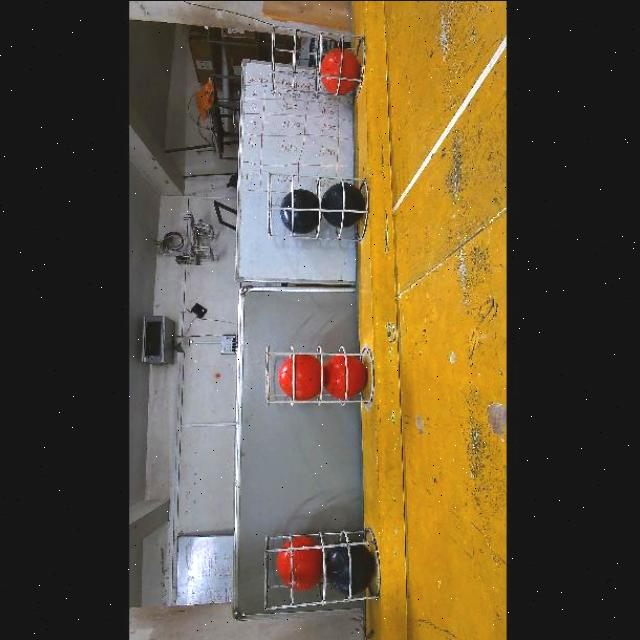P: (327, 540, 374, 596), (321, 181, 365, 227), (280, 188, 319, 234)
R: (276, 535, 323, 590), (325, 354, 368, 399), (279, 354, 321, 400), (321, 46, 360, 93)
S: (262, 526, 386, 606), (267, 177, 371, 240), (268, 32, 366, 94), (268, 346, 374, 398)
